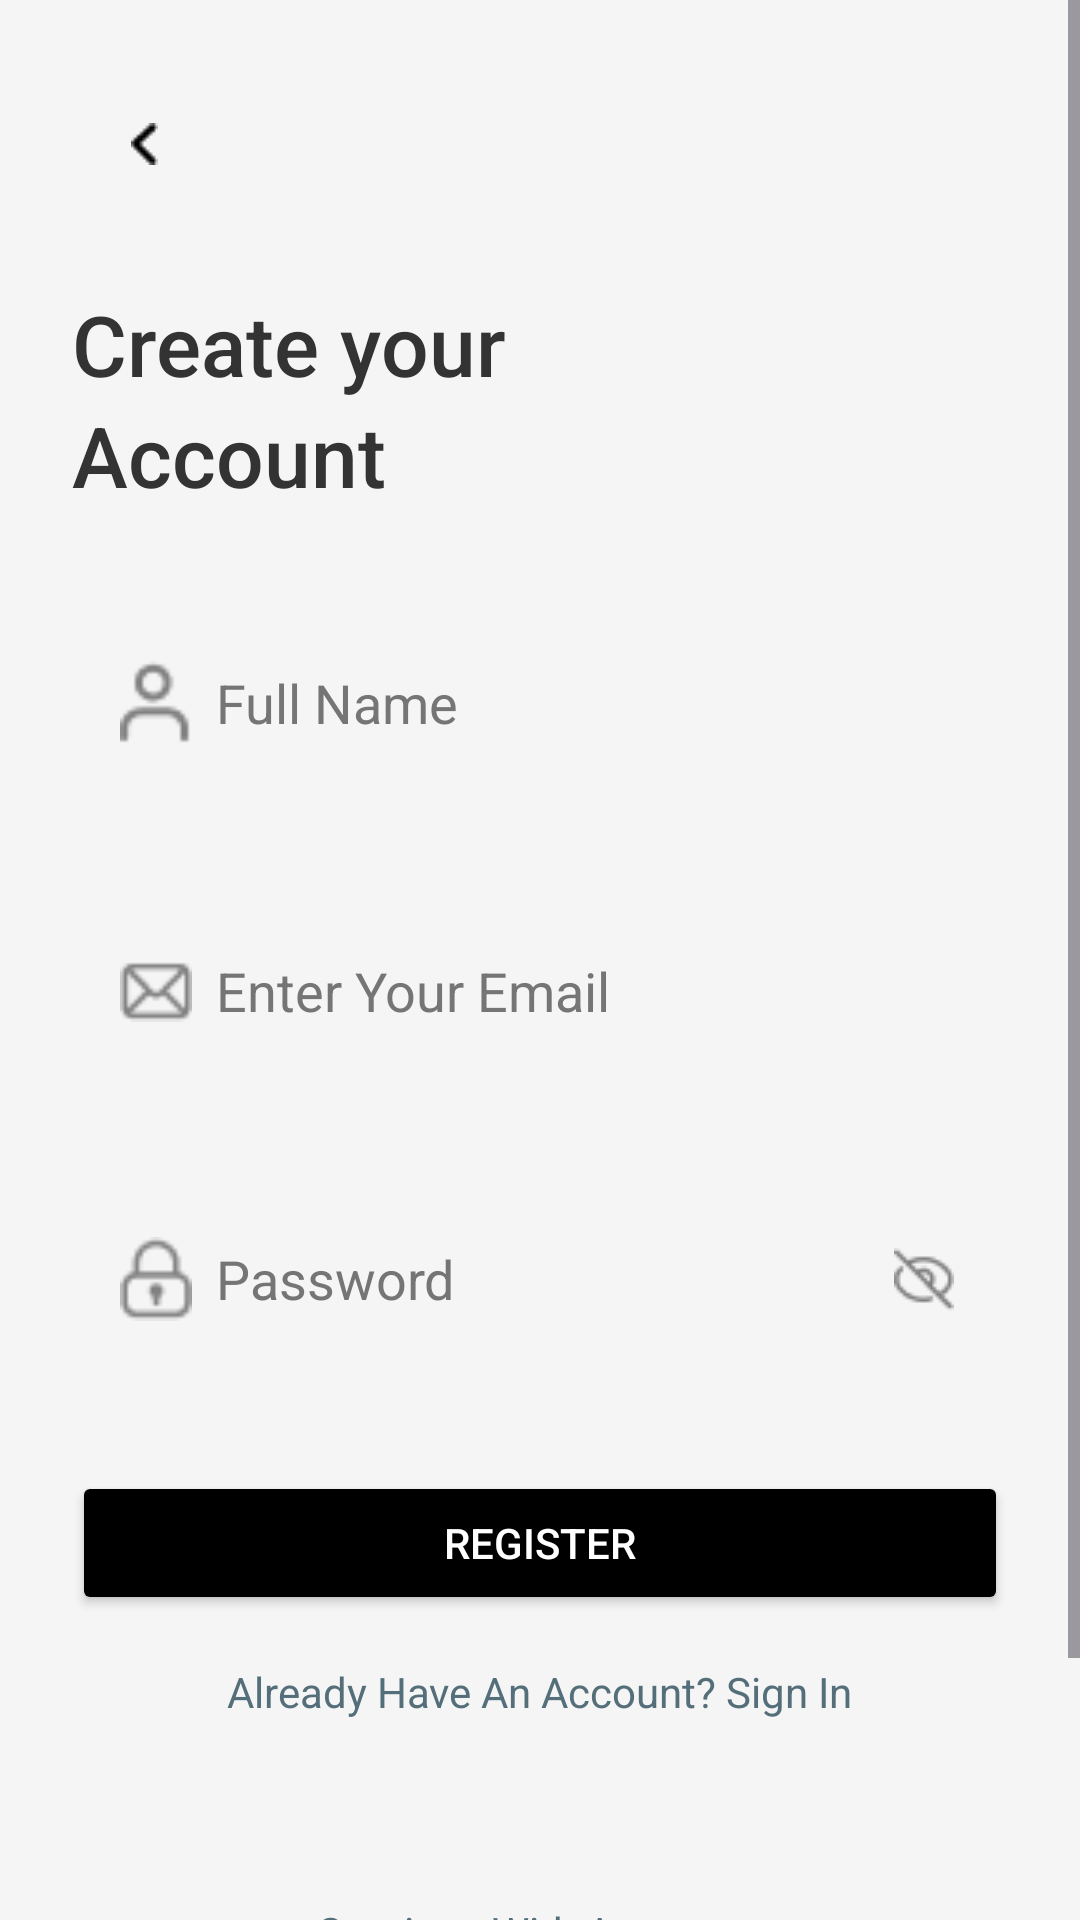

Icons on this 1080px×1920px Android screen, each with the point to tap as point (x, y):
Back: point (144, 144)
